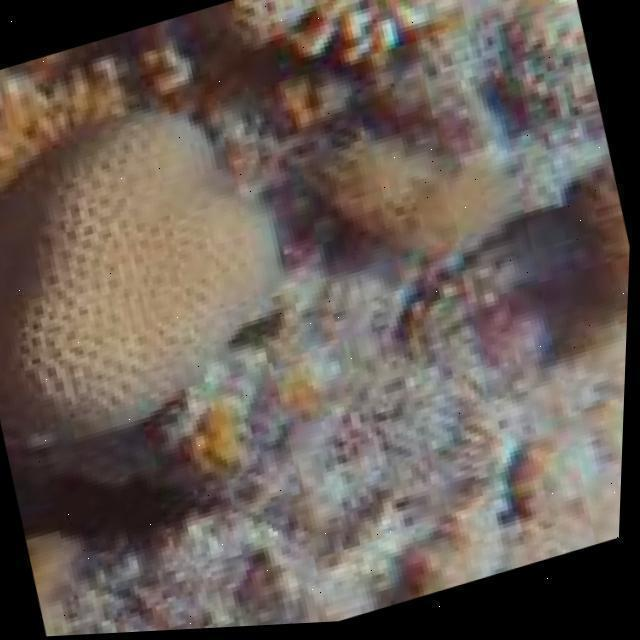Healthy Coral: (0, 92, 293, 474)
